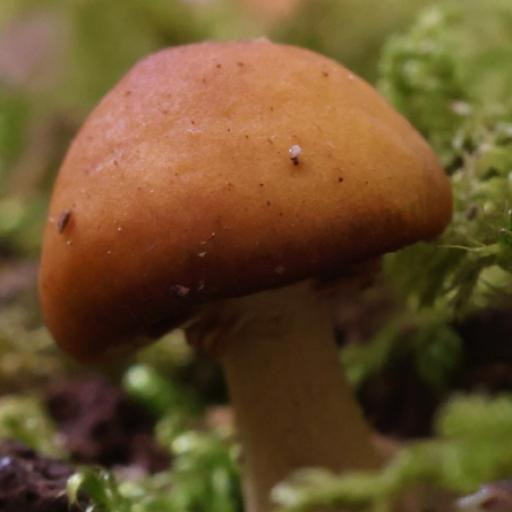mushroom: (34, 33, 451, 427)
